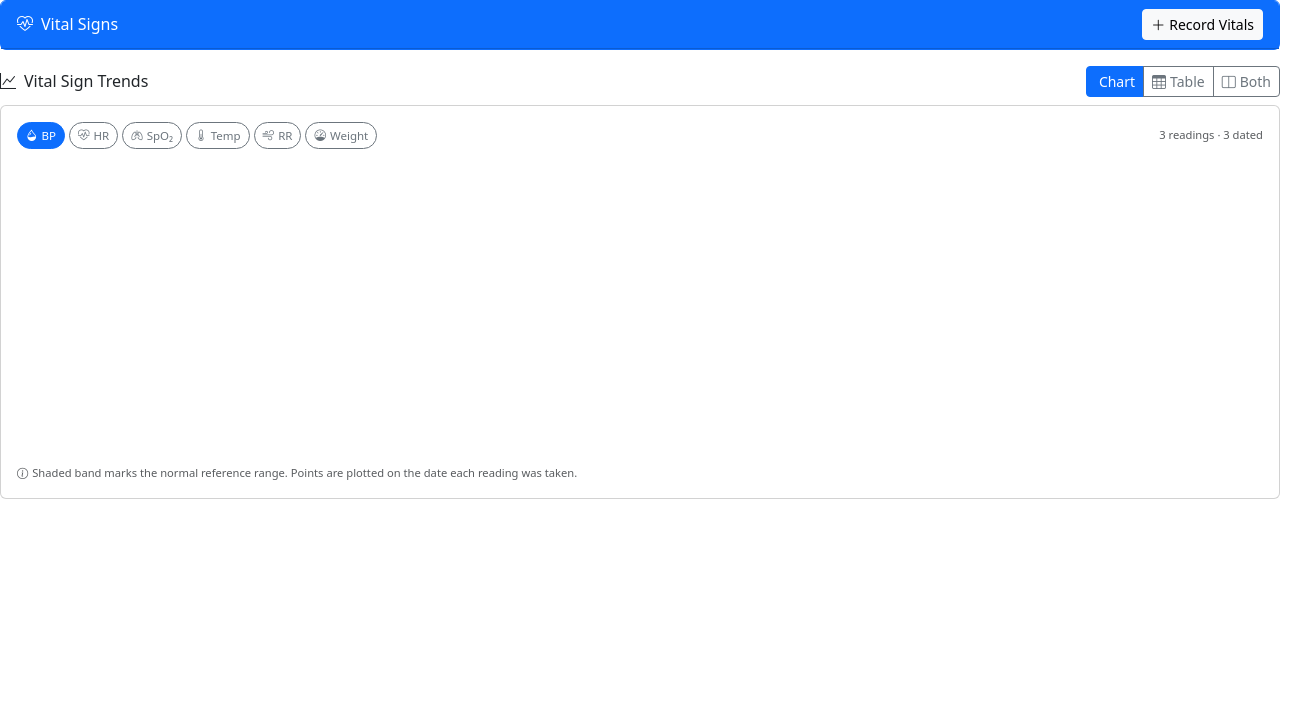
Test: VitalsTab view toggle › shows the chart and the table together when asked
Click the button titled "Both view". click: (1246, 82)
box: 1213,66 -> 1280,97
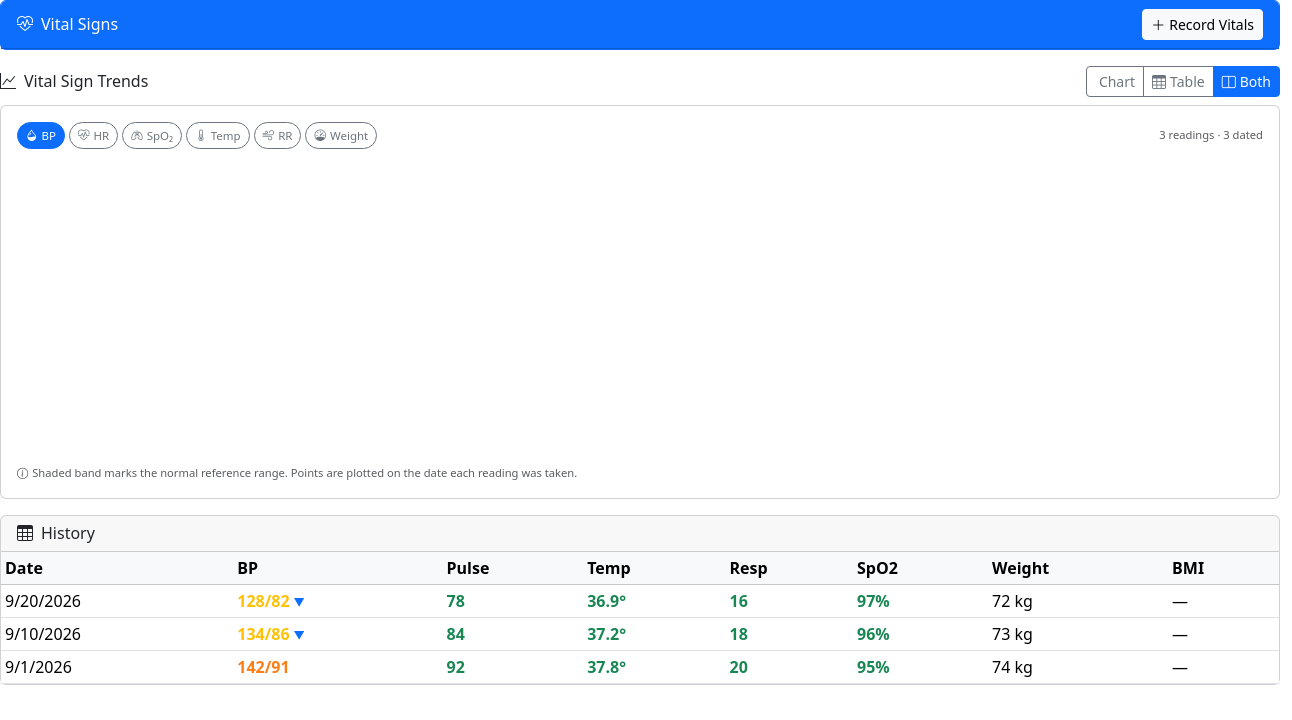
Expected: the heading "History" is shown, 17,522 -> 95,544
